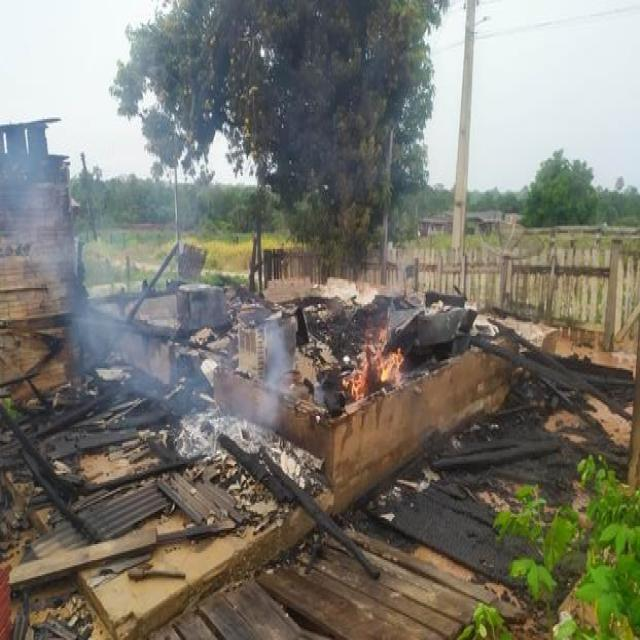Fire: (331, 304, 419, 406)
Smoke: (13, 119, 300, 461)
